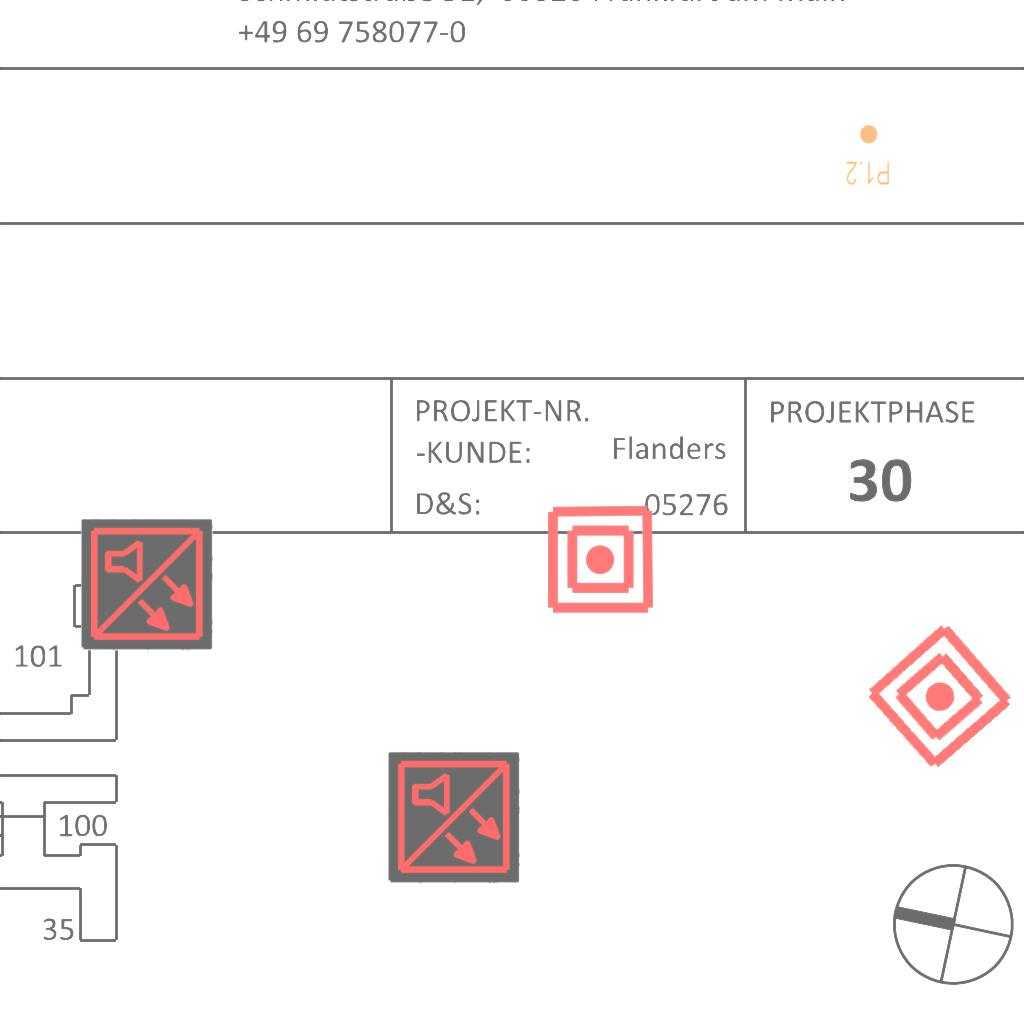Downlight_LED_Einbauleuchten_Flur: (845, 123, 891, 187)
NAM-Nichtautomatischer_Melder: (859, 616, 1020, 777), (544, 503, 657, 616)
OKW_Multisensormelder_(Kombination_optischer_Rauch-Kahlenmonoxid_Waerme-Melder): (388, 752, 520, 884), (81, 519, 213, 651)
